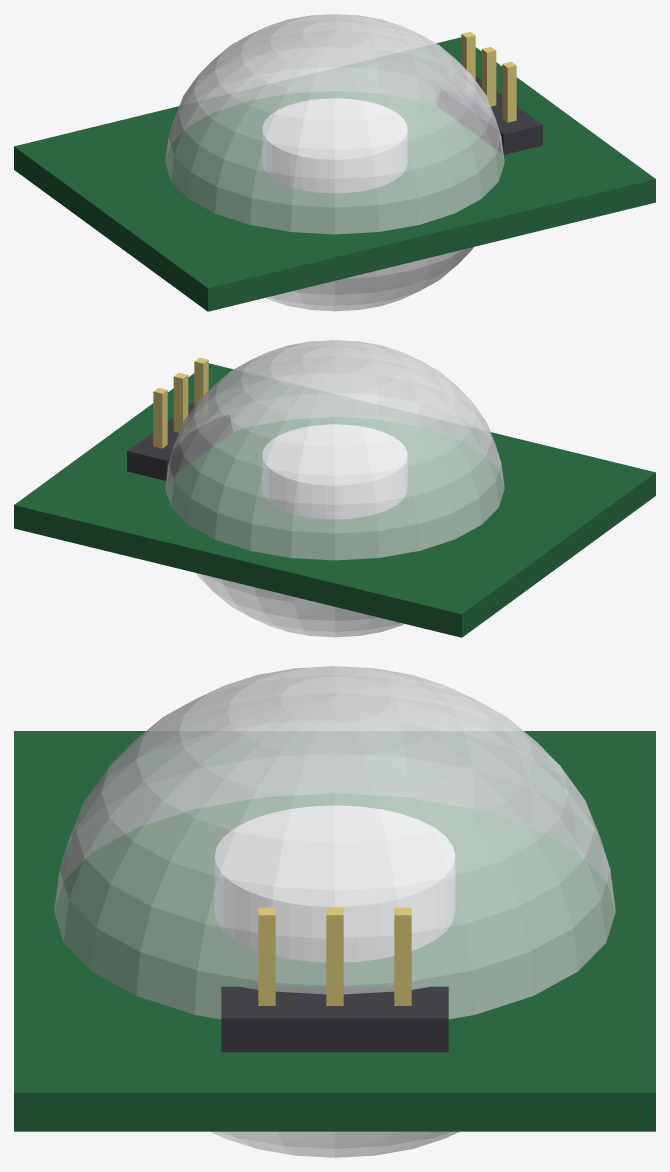
The model's file is hc_sr501_pir.glb.
The picture shows the model from 3 angles, top to bottom: view 1: azimuth 30°, elevation 25°; view 2: azimuth 150°, elevation 25°; view 3: azimuth 270°, elevation 25°; orthographic projection. The views are drawn at different scales.
Visible parts, largest first — view 1: HC_SR501_PCB, Fresnel_Lens_Dome, PIR_Sensor_Can, PIR_Header_Base, PIR_Pin_3, PIR_Pin_2, PIR_Pin_1; view 2: HC_SR501_PCB, Fresnel_Lens_Dome, PIR_Sensor_Can, PIR_Header_Base, PIR_Pin_1, PIR_Pin_2, PIR_Pin_3; view 3: HC_SR501_PCB, Fresnel_Lens_Dome, PIR_Sensor_Can, PIR_Header_Base, PIR_Pin_1, PIR_Pin_2, PIR_Pin_3.
Part boxes in pixels (bbox=[...]): HC_SR501_PCB: bbox=[14, 37, 655, 311]; Fresnel_Lens_Dome: bbox=[165, 14, 504, 311]; PIR_Sensor_Can: bbox=[262, 98, 407, 192]; PIR_Header_Base: bbox=[437, 76, 542, 154]; PIR_Pin_3: bbox=[502, 61, 516, 122]; PIR_Pin_2: bbox=[481, 46, 496, 106]; PIR_Pin_1: bbox=[461, 31, 475, 80]; HC_SR501_PCB: bbox=[14, 363, 655, 637]; Fresnel_Lens_Dome: bbox=[165, 340, 504, 637]; PIR_Sensor_Can: bbox=[262, 424, 407, 518]; PIR_Header_Base: bbox=[127, 402, 232, 480]; PIR_Pin_1: bbox=[153, 387, 167, 448]; PIR_Pin_2: bbox=[173, 372, 188, 432]; PIR_Pin_3: bbox=[194, 357, 208, 406]; HC_SR501_PCB: bbox=[14, 731, 655, 1131]; Fresnel_Lens_Dome: bbox=[54, 666, 615, 1157]; PIR_Sensor_Can: bbox=[215, 805, 454, 961]; PIR_Header_Base: bbox=[221, 986, 448, 1052]; PIR_Pin_1: bbox=[394, 907, 411, 1005]; PIR_Pin_2: bbox=[326, 907, 343, 1005]; PIR_Pin_3: bbox=[258, 907, 275, 1005].
Bounding box in the file's own units: 3.2 × 1.78 × 2.4.
